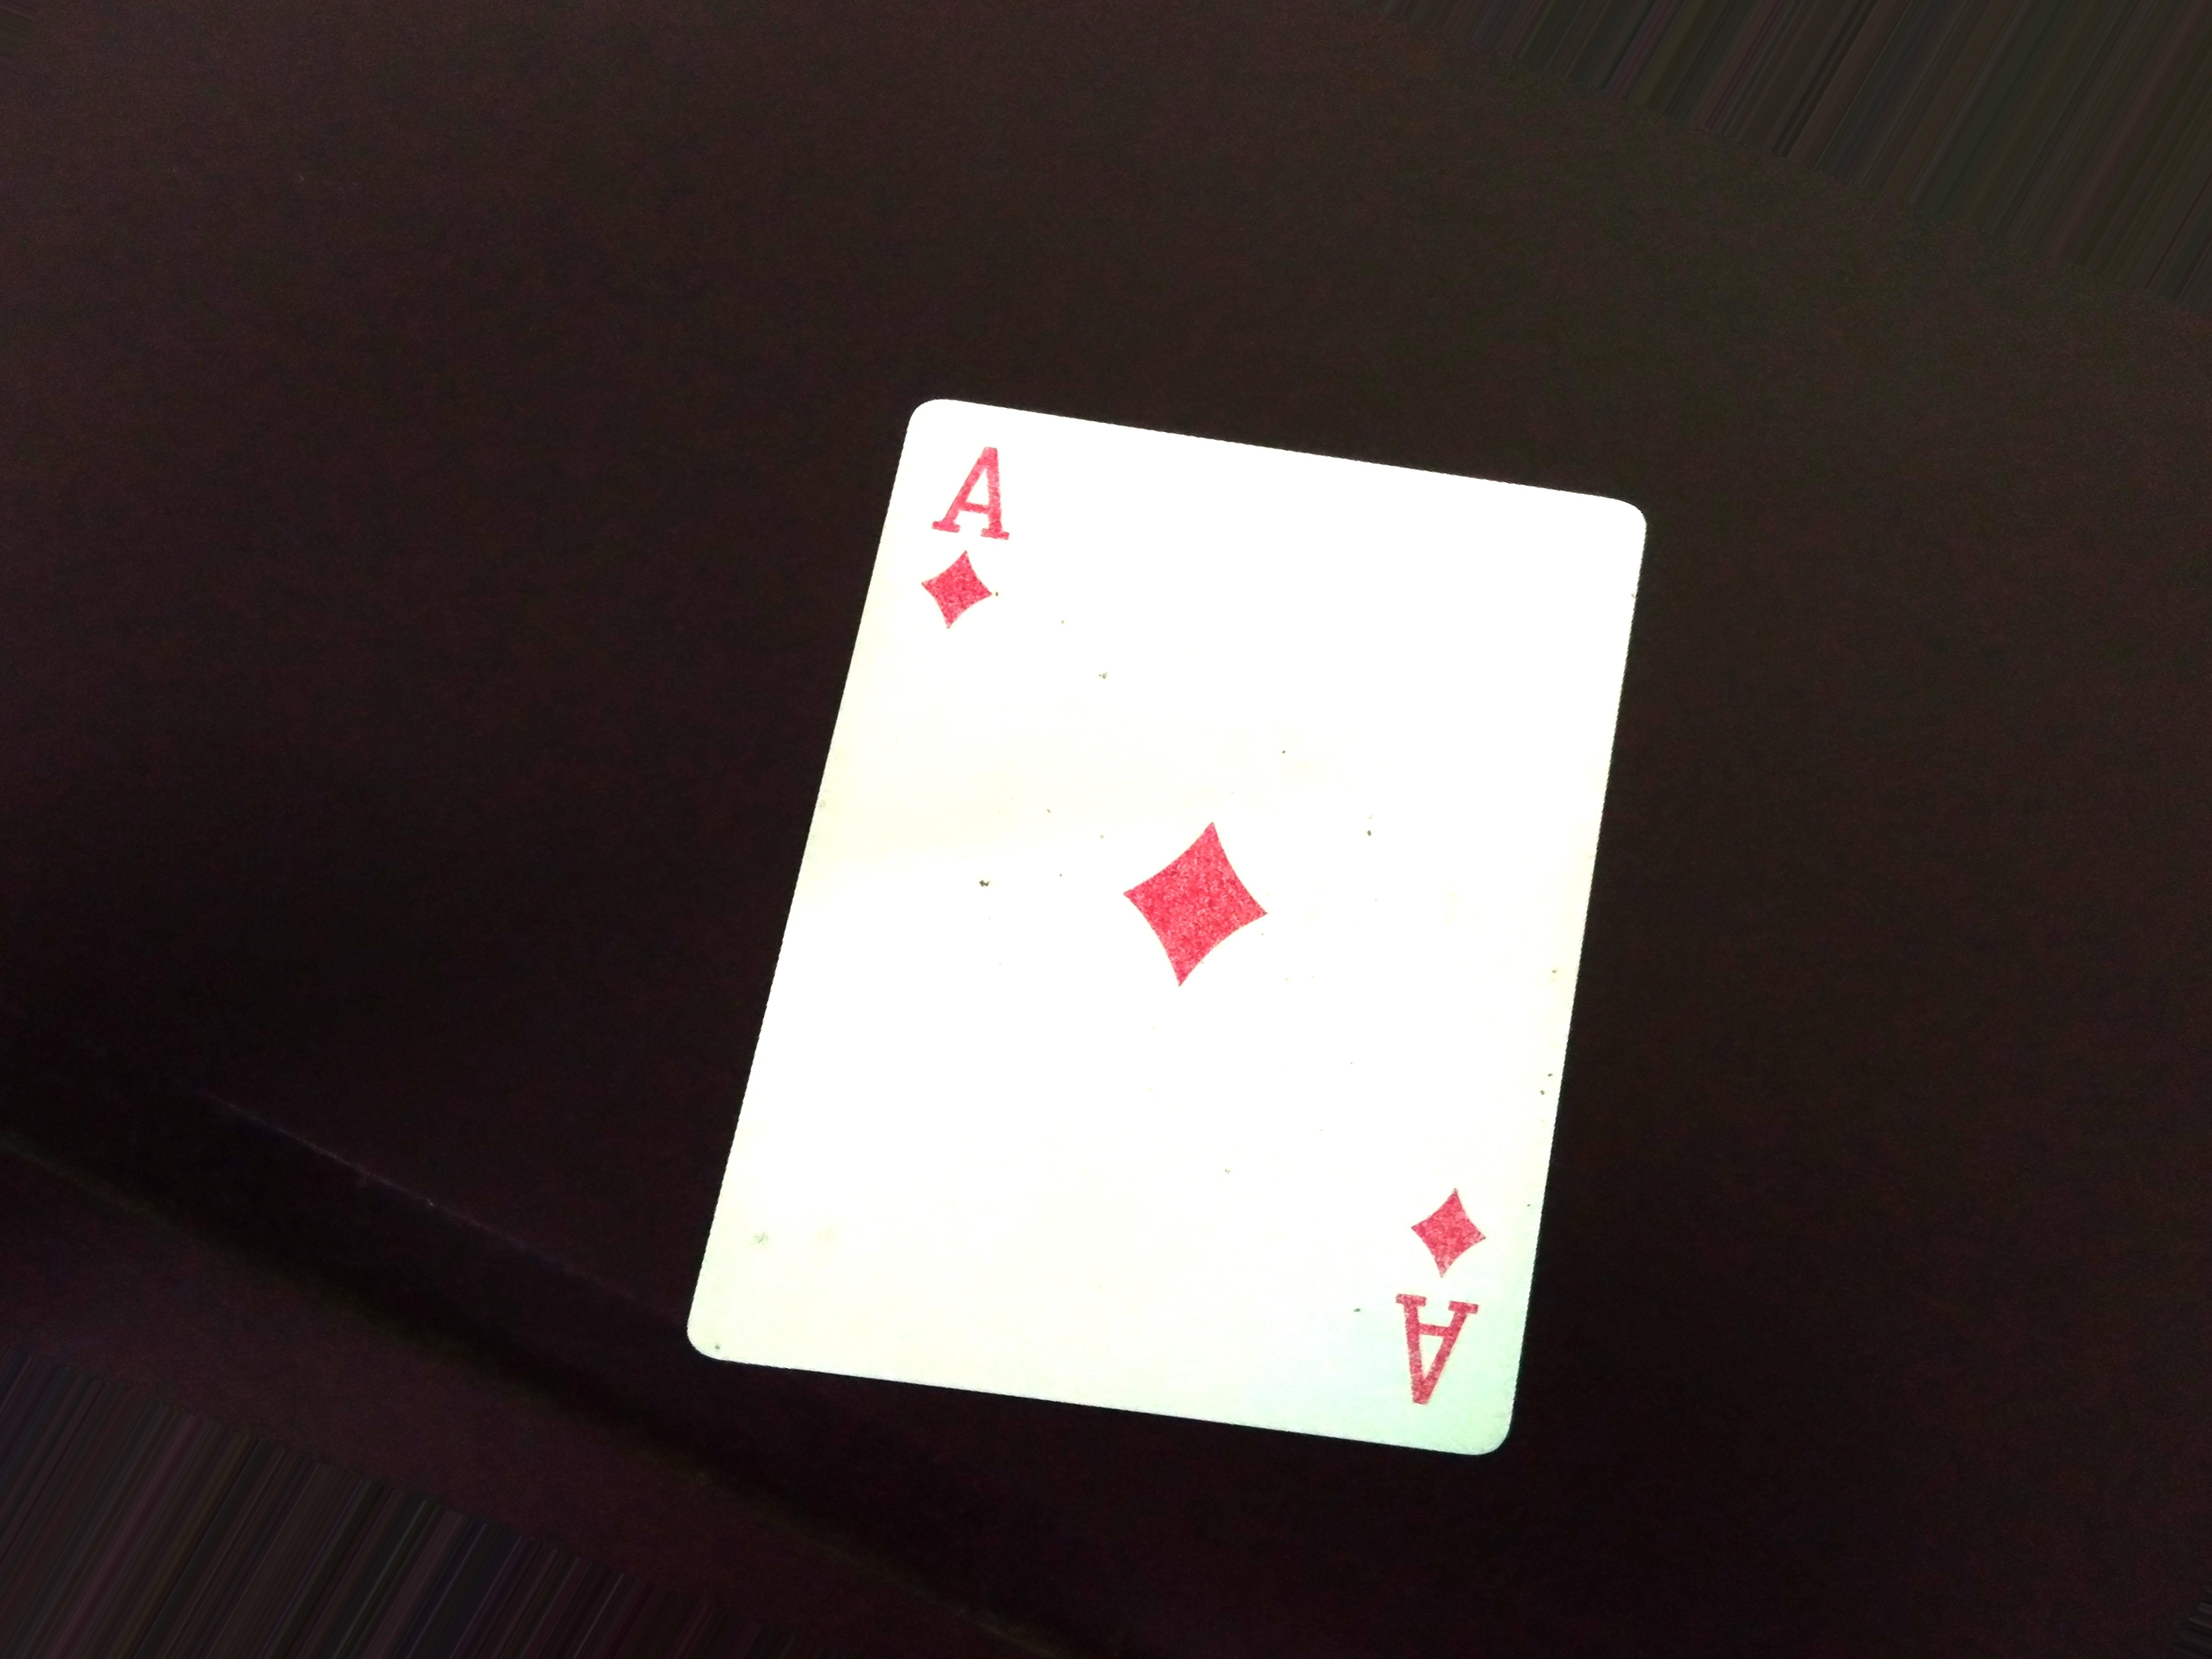AD: (916, 427, 1049, 647)
